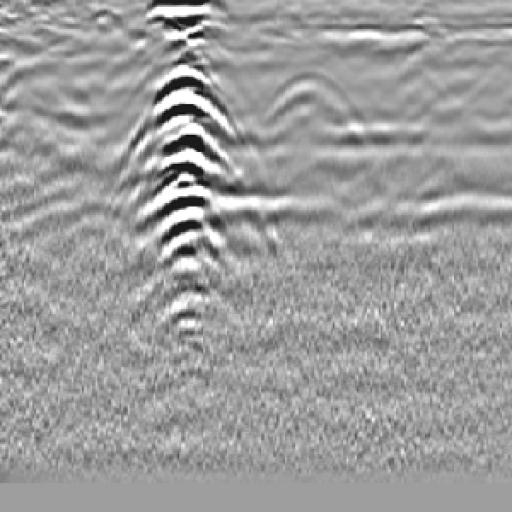metalic: (146, 48, 233, 290)
nonmetalic: (251, 69, 378, 184)
